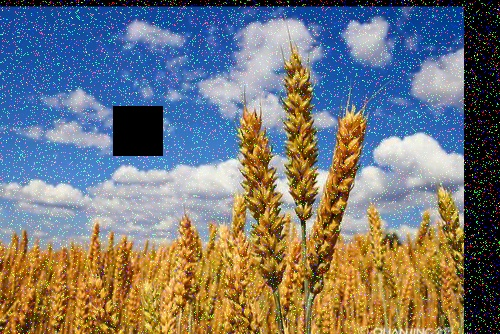wheat: (309, 107, 359, 298), (235, 98, 281, 293), (282, 45, 320, 222)
